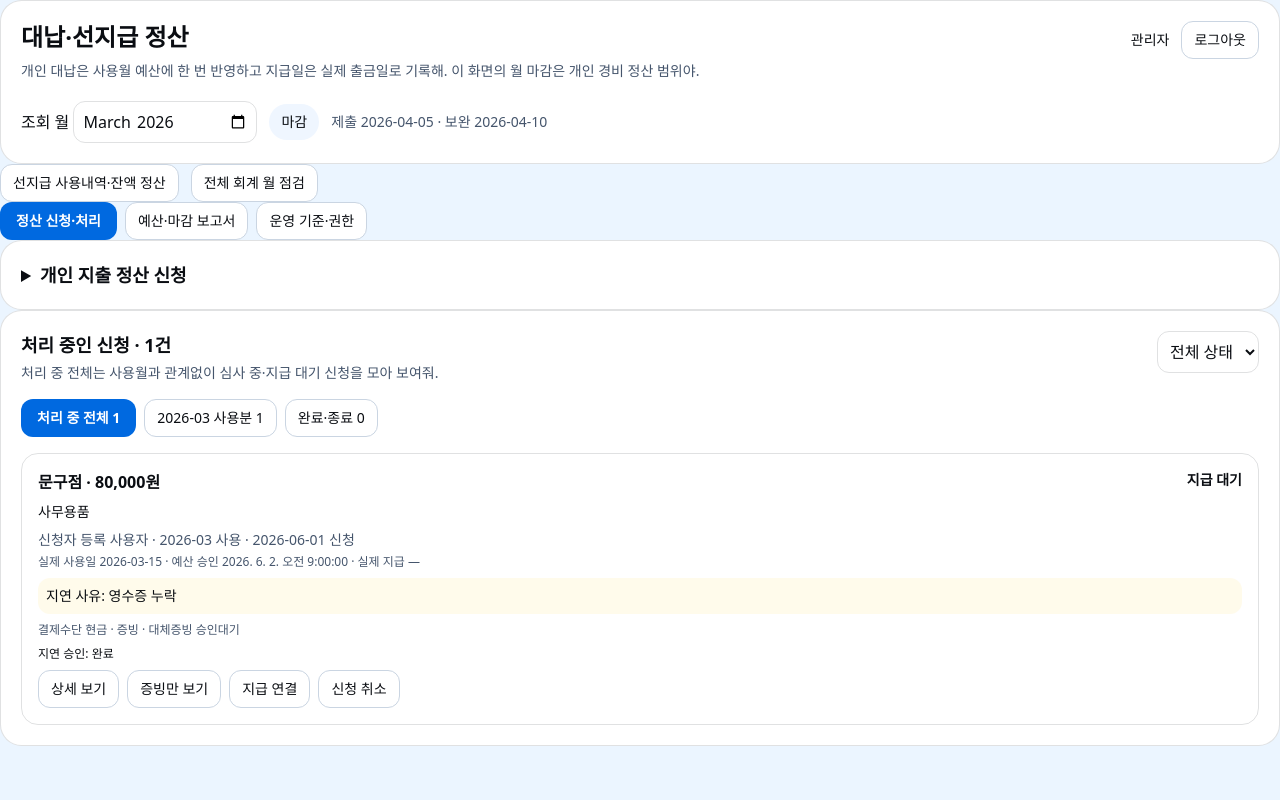
reimbursement workspace › keeps the dialog and entered reason on persistence failure
Click the button "신청 취소" at (359, 689), box [318,670,400,708]
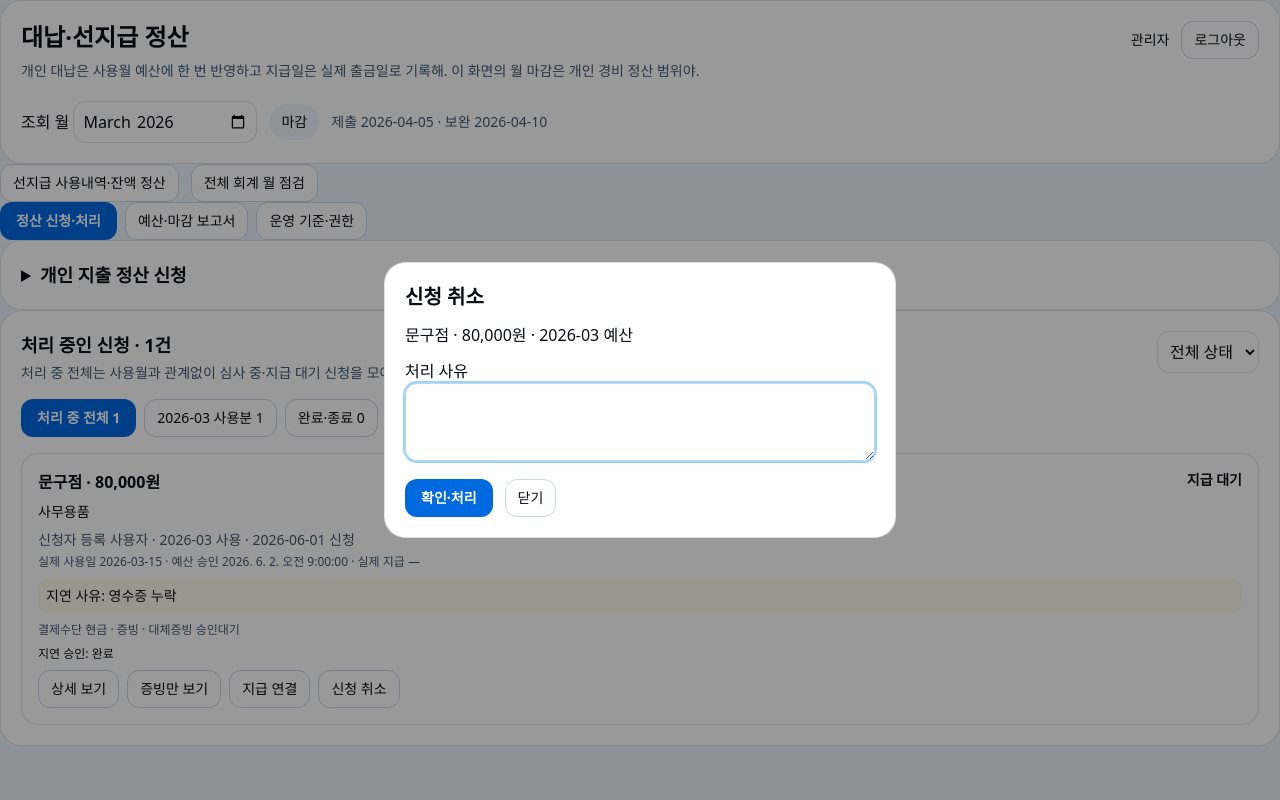
Type "중복 확인" into the text box labelled "처리 사유" at (640, 422), box [405,383,875,461]
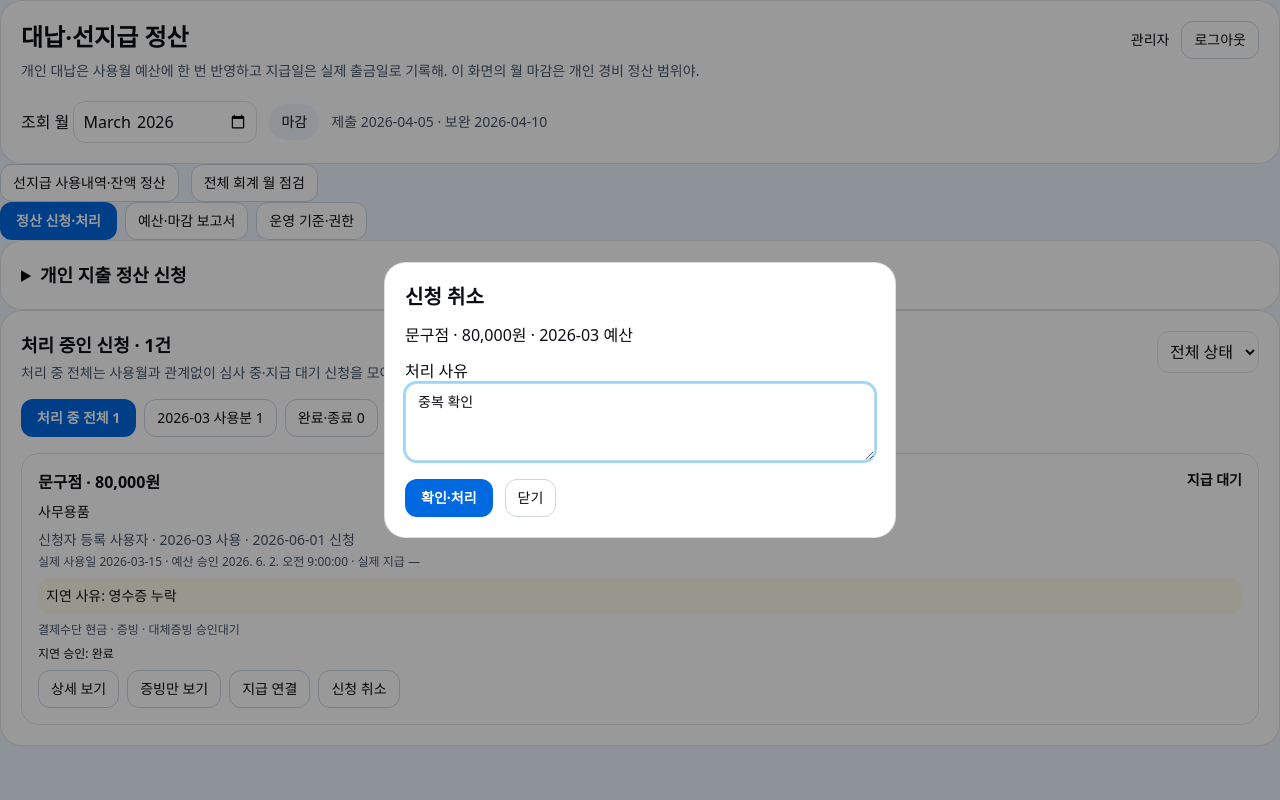
Click the button "확인·처리" at (449, 498), box [405,479,492,517]
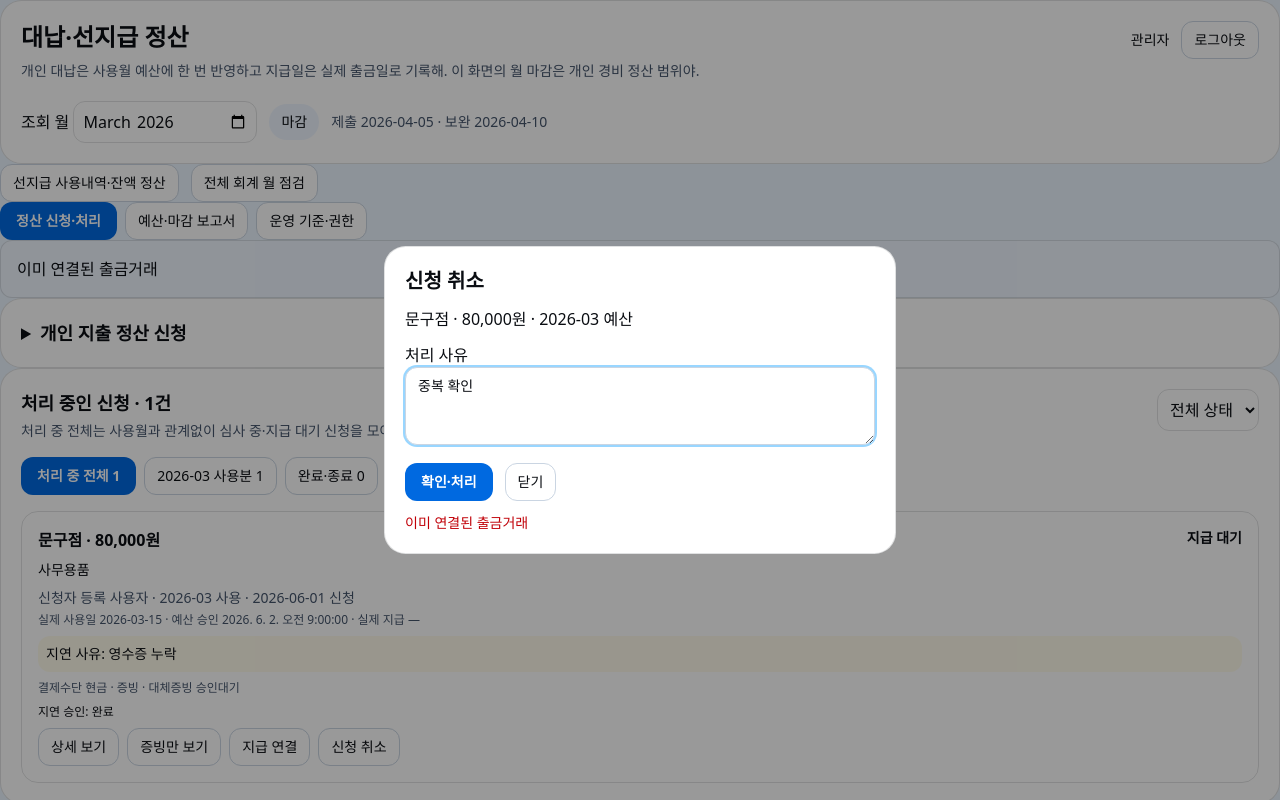
Expected: the message "이미 연결된 출금거래" below "처리 사유" is shown, [405,513,528,532]
